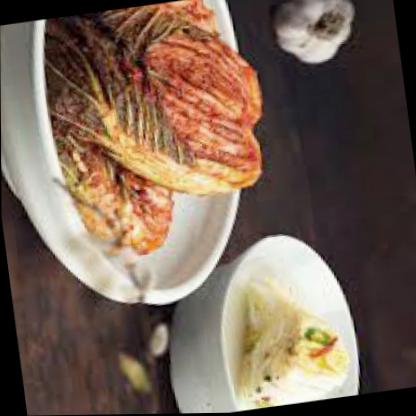Kimchi stew: (10, 0, 289, 267)
baek Kimchi: (216, 264, 358, 411)
